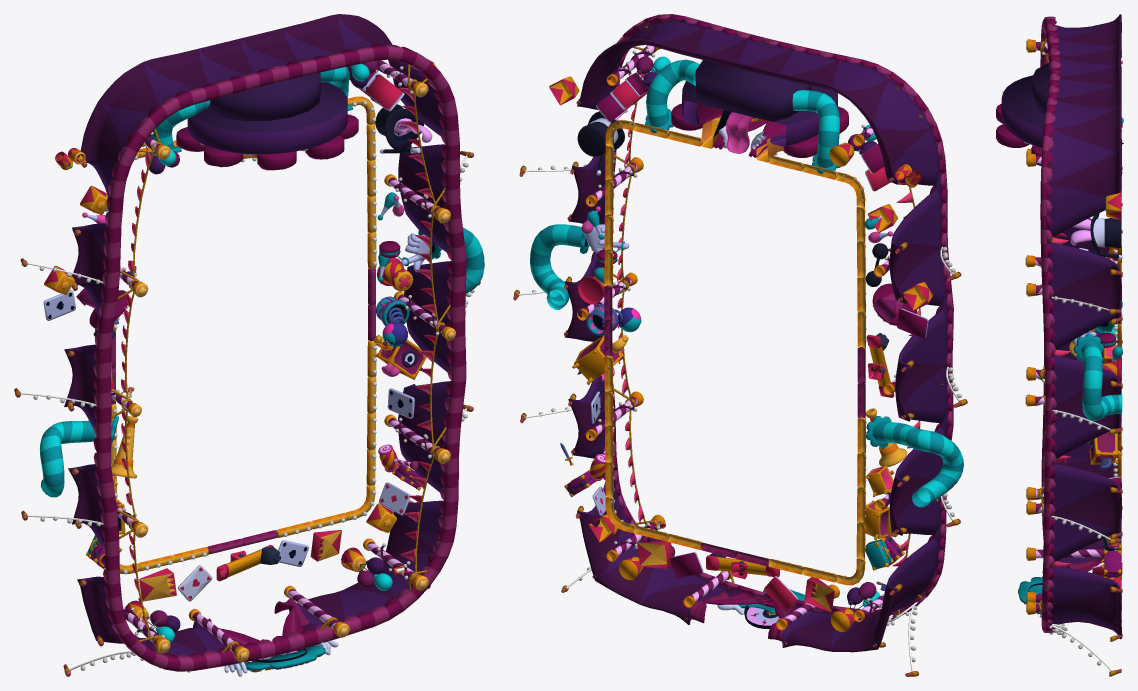
File: bgr_bizzare_circus.fbx
3 views of the same model, side by side, from view 1: azimuth 30°, elevation 25°; view 2: azimuth 150°, elevation 25°; view 3: azimuth 270°, elevation 25° (orthographic). The views are drawn at different scales.
Visible parts, largest first — view 1: Plane.001, Plane.044, Circle.003, NurbsCurve.009, ground.004, Cylinder.014, Plane.014, Cylinder.012, ground.010, NurbsCurve.007, Cylinder.018, Cylinder.008 (+16 smaller); view 2: Plane.001, Circle.003, Plane.044, NurbsCurve.007, NurbsCurve.009, ground.004, ground.010, NurbsCurve.011, ground.002, ground.012, ground.006, Cylinder.026 (+14 smaller); view 3: Plane.001, Plane.044, Circle.003, NurbsCurve.011, Cylinder.026, Cube.003, Cylinder.014, Cube.039, hair_cabin.007, Cylinder.016, Cylinder.018, Cube.031 (+10 smaller).
Boxes of the visible parts, bbox=[...] form: Plane.001: bbox=[64, 14, 451, 657]; Plane.044: bbox=[93, 44, 466, 671]; Circle.003: bbox=[187, 72, 347, 154]; NurbsCurve.009: bbox=[39, 420, 112, 497]; ground.004: bbox=[111, 340, 376, 498]; Cylinder.014: bbox=[188, 585, 349, 661]; Plane.014: bbox=[121, 220, 437, 505]; Cylinder.012: bbox=[123, 538, 428, 653]; ground.010: bbox=[113, 124, 377, 331]; NurbsCurve.007: bbox=[151, 66, 349, 149]; Cylinder.018: bbox=[115, 414, 450, 537]; Cylinder.008: bbox=[119, 174, 450, 297]; Plane.001: bbox=[564, 20, 947, 652]; Circle.003: bbox=[682, 60, 837, 146]; Plane.044: bbox=[591, 14, 953, 619]; NurbsCurve.007: bbox=[646, 59, 839, 167]; NurbsCurve.009: bbox=[872, 421, 963, 507]; ground.004: bbox=[604, 355, 866, 559]; ground.010: bbox=[604, 146, 866, 348]; NurbsCurve.011: bbox=[530, 224, 582, 309]; ground.002: bbox=[605, 120, 865, 585]; ground.012: bbox=[604, 285, 865, 418]; ground.006: bbox=[633, 123, 837, 179]; Cylinder.026: bbox=[577, 111, 624, 156]; Plane.001: bbox=[1046, 14, 1121, 639]; Plane.044: bbox=[1040, 16, 1060, 632]; Circle.003: bbox=[1001, 63, 1121, 148]; NurbsCurve.011: bbox=[1081, 341, 1122, 420]; Cylinder.026: bbox=[1090, 213, 1121, 253]; Cube.003: bbox=[1089, 425, 1122, 464]; Cylinder.014: bbox=[1026, 547, 1121, 602]; Cube.039: bbox=[1101, 550, 1121, 577]; hair_cabin.007: bbox=[996, 124, 1029, 147]; Cylinder.016: bbox=[1026, 39, 1121, 166]; Cylinder.018: bbox=[1026, 367, 1121, 514]; Cube.031: bbox=[1017, 577, 1042, 614].
Size of what is drawn, in the model's own units: 4044 by 4986 by 1062.
